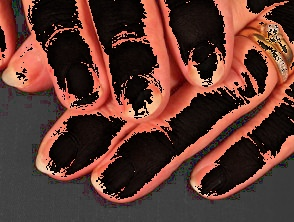Nail_psoriasis: (25, 114, 102, 196), (80, 141, 158, 215), (44, 52, 119, 128), (176, 28, 240, 96), (0, 39, 60, 104), (114, 62, 170, 123), (185, 153, 240, 205)
